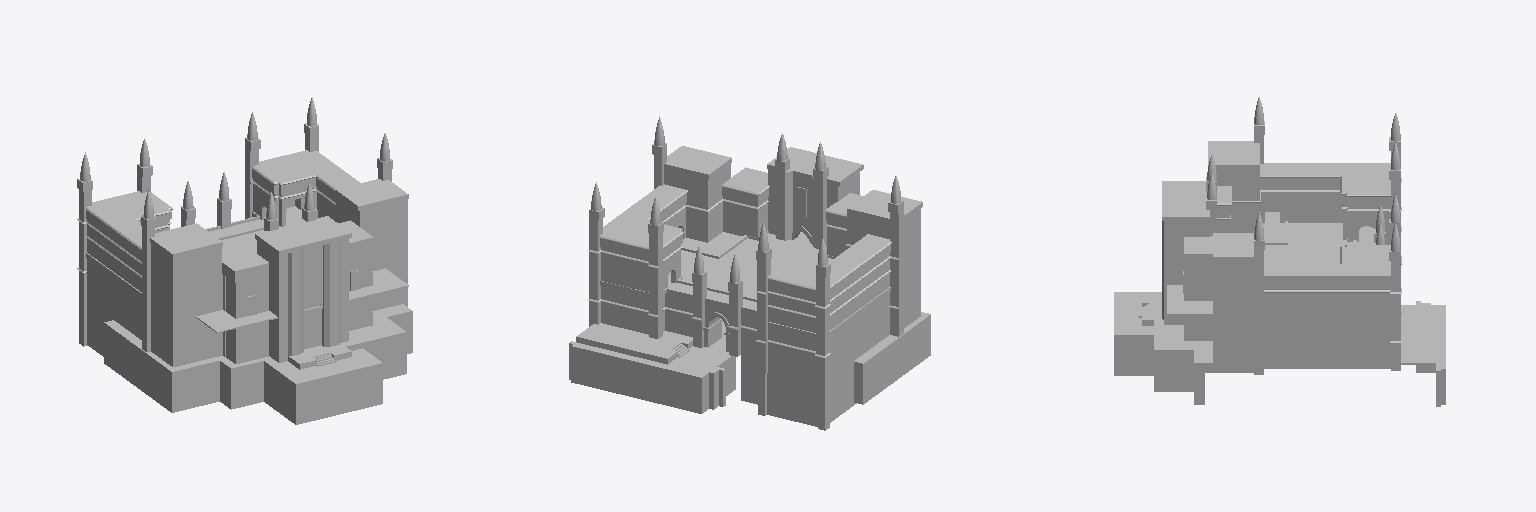
The model's file is base-castle-gothic.obj.
The picture shows the model from 3 angles: view 1: azimuth 30°, elevation 25°; view 2: azimuth 150°, elevation 25°; view 3: azimuth 270°, elevation 25°; orthographic projection.
Visible parts, largest first — view 1: entity0_brush893, entity0_brush274, entity0_brush761, entity0_brush145, entity0_brush144, entity0_brush890, entity0_brush798, entity0_brush892, entity0_brush564, entity0_brush760, entity0_brush141, entity0_brush204 (+21 smaller); view 2: entity0_brush761, entity0_brush710, entity0_brush65, entity0_brush798, entity0_brush274, entity0_brush177, entity0_brush564, entity0_brush703, entity0_brush563, entity0_brush272, entity0_brush145, entity0_brush204 (+25 smaller); view 3: entity0_brush274, entity0_brush798, entity0_brush476, entity0_brush893, entity0_brush890, entity0_brush475, entity0_brush478, entity0_brush198, entity0_brush479, entity0_brush515, entity0_brush266, entity0_brush516 (+20 smaller).
Part boxes in pixels (x1,y1,x2,y2): entity0_brush893: (264,348,382,424); entity0_brush274: (336,195,407,310); entity0_brush761: (104,320,182,412); entity0_brush145: (151,273,195,366); entity0_brush144: (226,275,264,363); entity0_brush890: (341,314,406,379); entity0_brush798: (196,219,408,332); entity0_brush892: (220,356,271,409); entity0_brush564: (87,283,141,356); entity0_brush760: (179,356,226,409); entity0_brush141: (196,277,221,361); entity0_brush204: (255,220,338,255); entity0_brush761: (854,312,930,404); entity0_brush710: (656,346,735,413); entity0_brush65: (571,342,660,402); entity0_brush798: (668,232,832,297); entity0_brush274: (664,164,730,242); entity0_brush177: (767,370,817,426); entity0_brush564: (830,317,889,422); entity0_brush703: (576,329,677,364); entity0_brush563: (830,293,889,359); entity0_brush272: (664,146,731,178); entity0_brush145: (904,238,920,327); entity0_brush204: (789,151,863,186); entity0_brush274: (1213,262,1253,372); entity0_brush798: (1167,221,1352,315); entity0_brush476: (1264,326,1390,350); entity0_brush893: (1114,292,1161,375); entity0_brush890: (1154,320,1204,391); entity0_brush475: (1264,351,1390,368); entity0_brush478: (1264,305,1390,320); entity0_brush198: (1164,221,1209,296); entity0_brush479: (1264,293,1390,304); entity0_brush515: (1347,245,1390,277); entity0_brush266: (1208,141,1259,169); entity0_brush516: (1347,163,1390,194).
Bounding box in the file's own units: 1816 × 1440 × 2112.